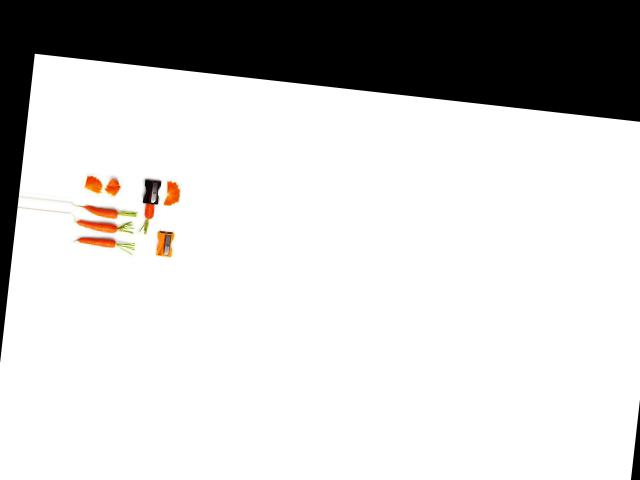carrot: (80, 199, 123, 224)
